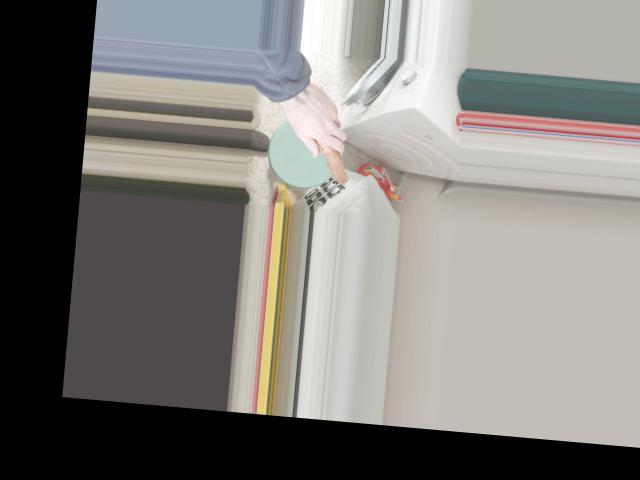sweet_potato: (293, 104, 354, 182)
